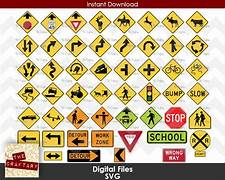right: (64, 34, 88, 58), (40, 35, 62, 58)
stop: (165, 107, 187, 128)
